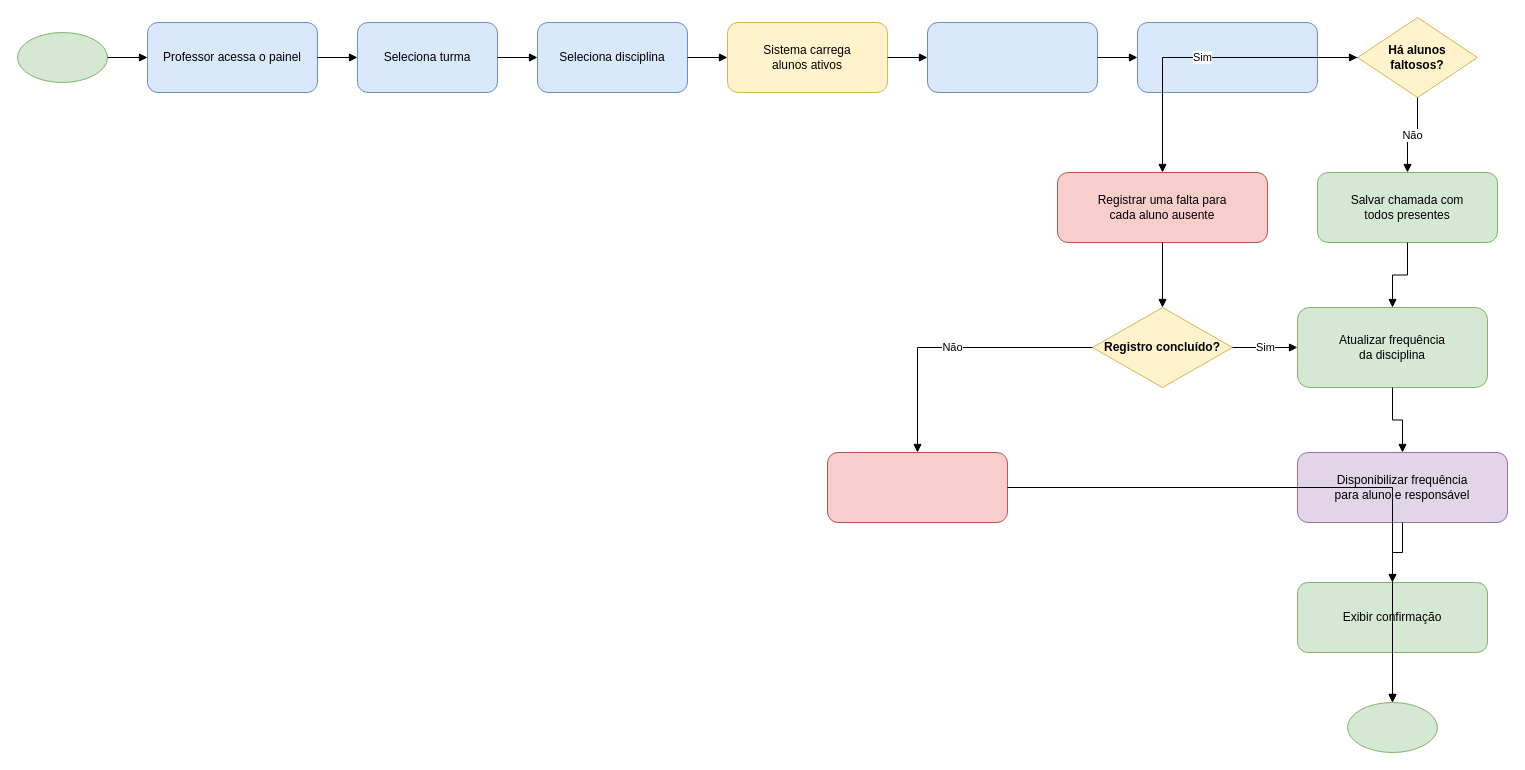
Some shapes in this 1525 by 770 pixel diagram are drawn without their labels. The shapes that lost their labels are listed below. From the top down, each one's box as (x1, y1, x2, y2) in pixels, then its label:
(16, 32, 108, 82): Início
(926, 22, 1098, 92): Professor registra a aula do dia
(1136, 22, 1318, 92): Marca cada aluno como presente ou faltoso
(826, 452, 1008, 522): Exibir erro ao professor
(1346, 702, 1438, 752): Fim
